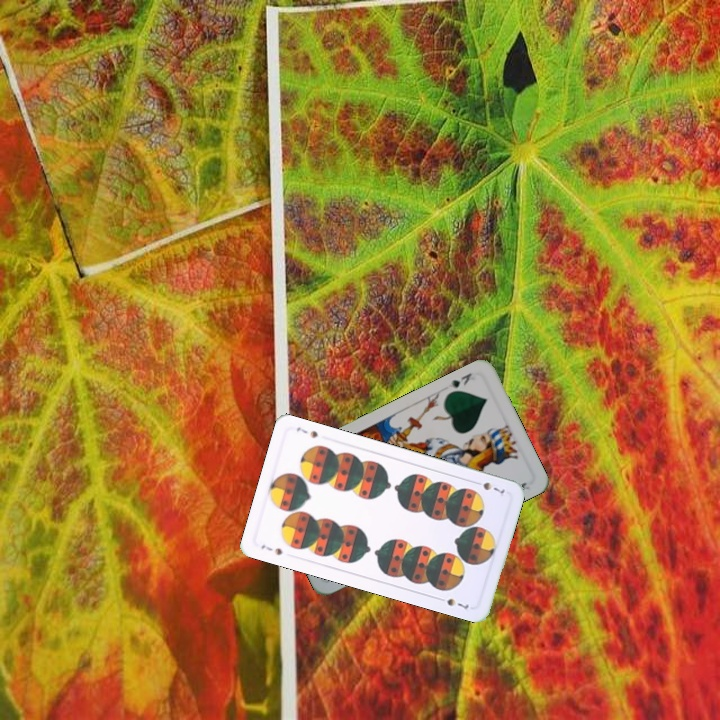GK: (445, 369, 474, 391)
S7: (470, 477, 507, 496), (257, 541, 285, 558)
